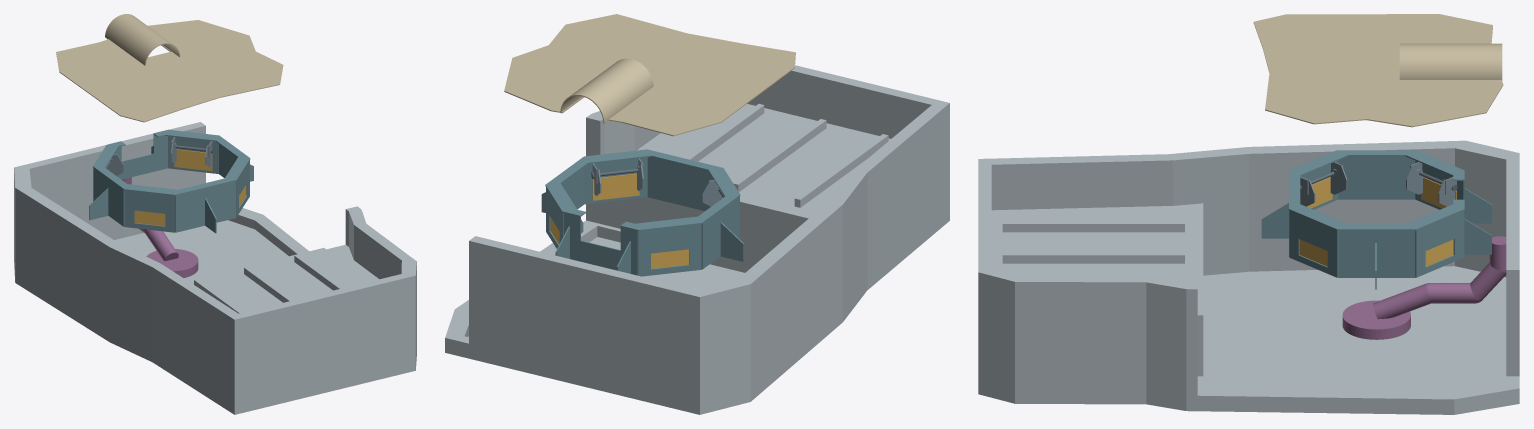
Rendered from radial_pan_exploded.glb.
3 renders of one model, left to right at view 1: azimuth 30°, elevation 25°; view 2: azimuth 150°, elevation 25°; view 3: azimuth 270°, elevation 25°, orthographic. The views are drawn at different scales.
Parts seen in each view (by area): view 1: radial_pan_exploded (×6); view 2: radial_pan_exploded (×5); view 3: radial_pan_exploded (×6).
Part boxes in pixels (bbox=[...]): radial_pan_exploded (×6): bbox=[14, 14, 416, 414]; radial_pan_exploded (×5): bbox=[445, 14, 949, 414]; radial_pan_exploded (×6): bbox=[978, 14, 1519, 414].
Bounding box in the file's own units: 0.316 × 0.283 × 0.4747.
